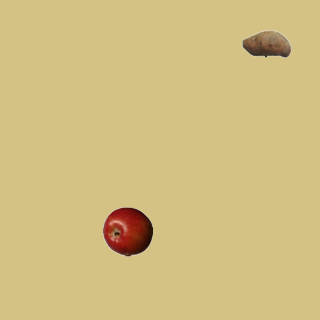Apple Braeburn: (102, 206, 152, 256)
Potato Sweet: (241, 18, 291, 68)
